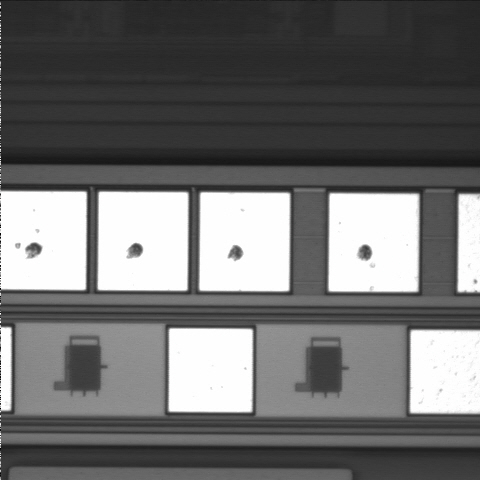pad: (199, 192, 290, 291), (98, 192, 188, 291), (329, 193, 419, 292), (169, 329, 253, 412)
